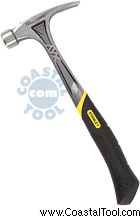hammer: (3, 1, 138, 207)
